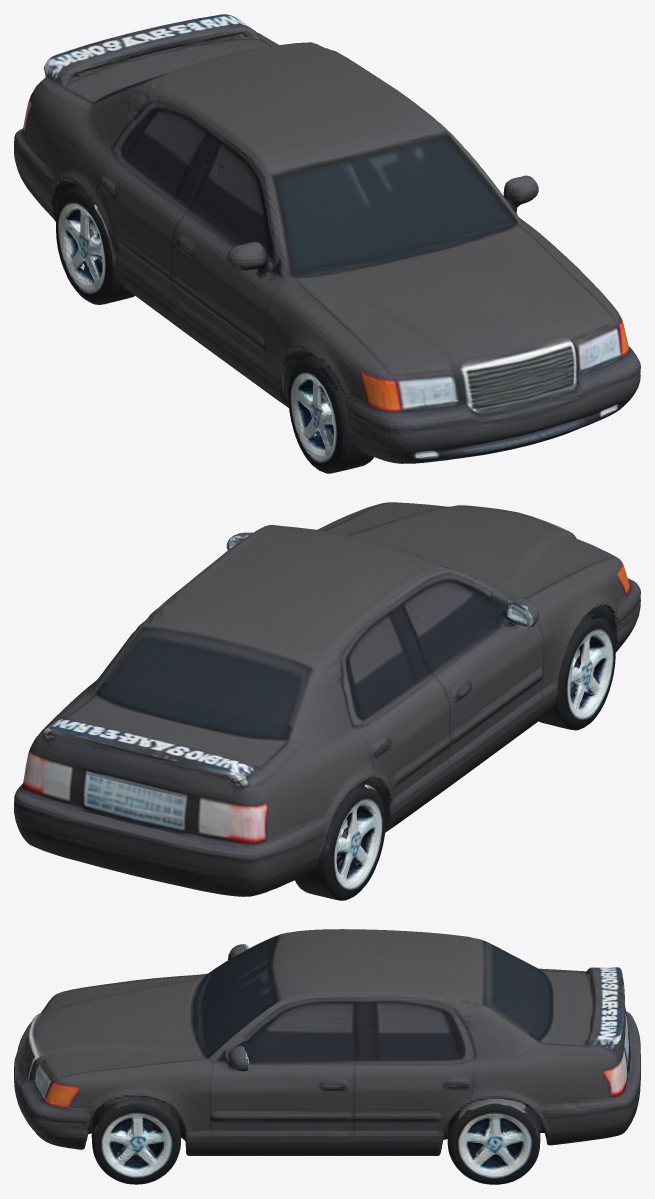
The model's file is sedan_grey.glb.
3 views of the same model, one above another, from view 1: azimuth 30°, elevation 25°; view 2: azimuth 150°, elevation 25°; view 3: azimuth 270°, elevation 25° (orthographic). The views are drawn at different scales.
Parts seen in each view (by area): view 1: tmp3rftt12l.ply; view 2: tmp3rftt12l.ply; view 3: tmp3rftt12l.ply.
Boxes of the visible parts, x1,y1,x2,y2 form: tmp3rftt12l.ply: [14, 14, 640, 473]; tmp3rftt12l.ply: [14, 502, 640, 900]; tmp3rftt12l.ply: [14, 929, 640, 1184].
Size of the model in its own units: 0.8708 by 0.6247 by 1.99.
1 material, 1 textured.
